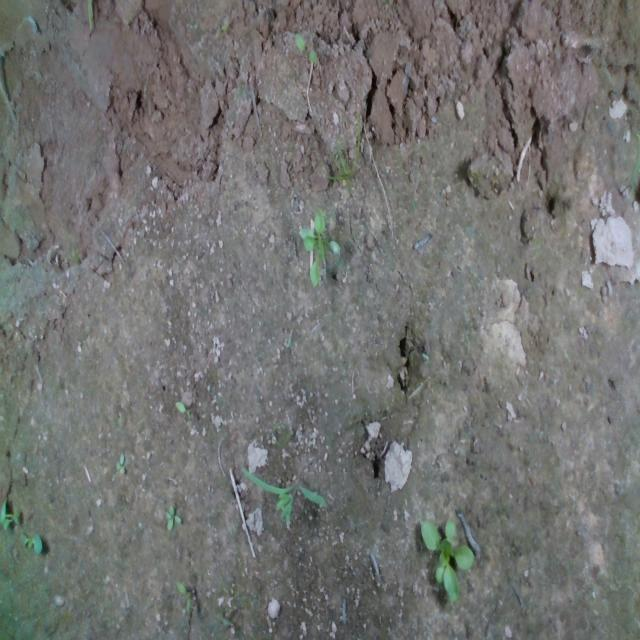weed: (292, 32, 318, 66), (18, 531, 42, 557), (174, 578, 190, 612), (164, 502, 182, 531), (113, 452, 125, 474)
